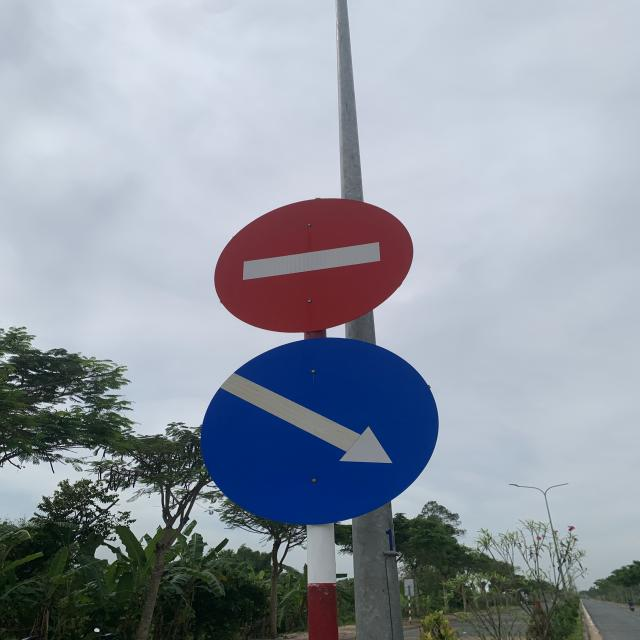Cam_Di_Nguoc_Chieu: (214, 196, 414, 332)
Chi_Huong_Di_Phai: (202, 338, 438, 524)
